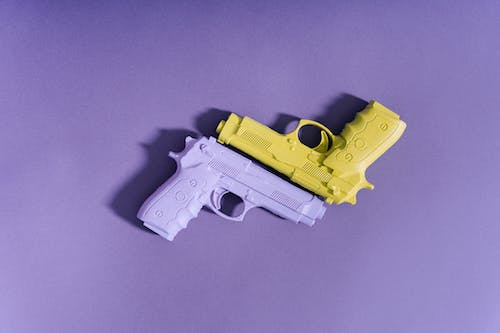gun: (134, 132, 328, 243), (213, 97, 408, 207)
